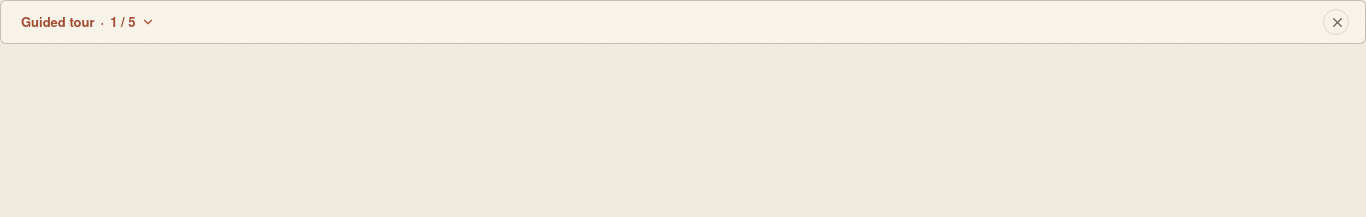
it: first-run tour › starts at the first step and moves forward
The width and height of the screenshot is (1366, 217).
Expected: the heading "Start with Mission Control" is not shown
What coordinates should you click on to do the following:
click the button "Guided tour · 1 / 5"
I would click on:
 (88, 22)
Its box is left=17, top=5, right=160, bottom=39.
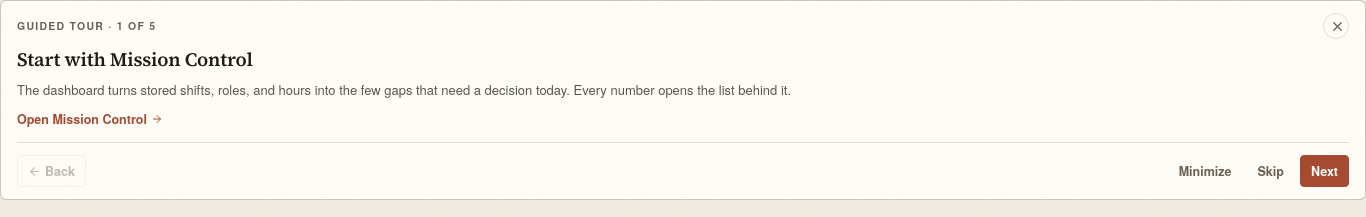
Expected: the heading "Start with Mission Control" is shown, left=17, top=46, right=253, bottom=72
Expected: the text "Guided tour · 1 of 5" is shown, left=17, top=18, right=156, bottom=34
What coordinates should you click on to do the following:
click the button "Next"
I would click on:
 (1324, 171)
Its box is left=1300, top=155, right=1349, bottom=187.
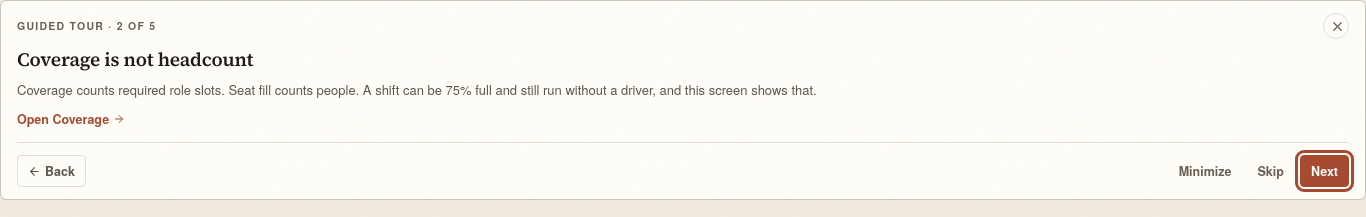
Expected: the heading "Coverage is not headcount" is shown, left=17, top=46, right=253, bottom=72
